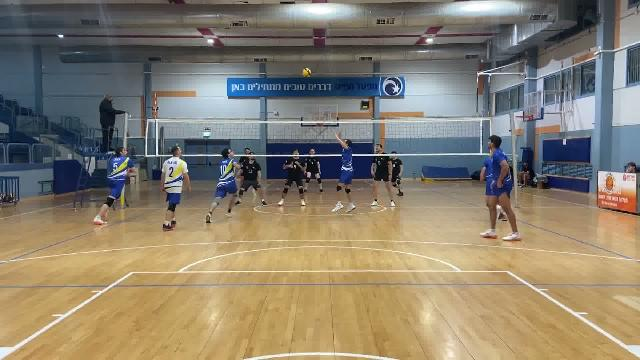ball: (301, 65, 315, 82)
